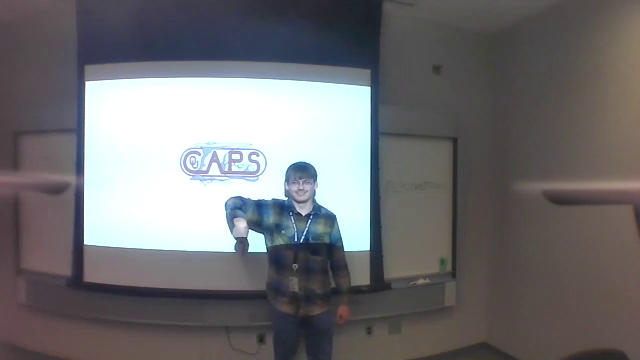down: (226, 223, 250, 260)
